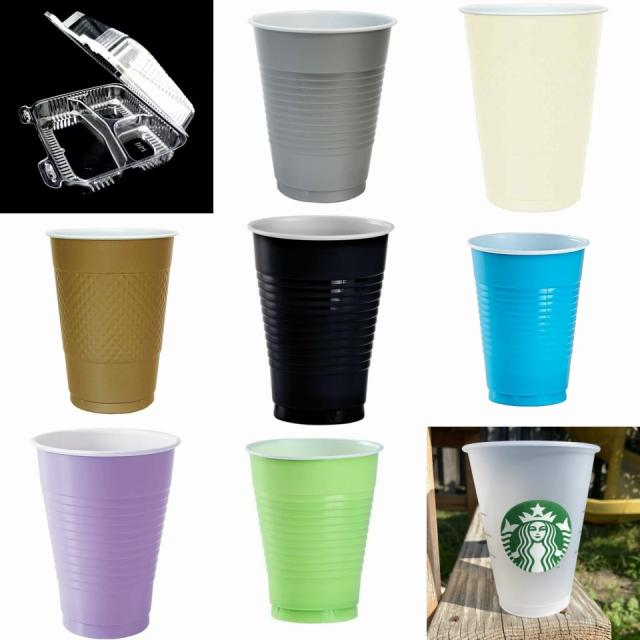Single-Use-Plastic: (19, 11, 194, 191), (32, 429, 180, 639), (249, 215, 394, 424), (462, 4, 606, 211), (249, 10, 396, 202), (248, 439, 382, 622), (462, 441, 599, 617), (48, 229, 178, 412), (469, 232, 589, 406)
